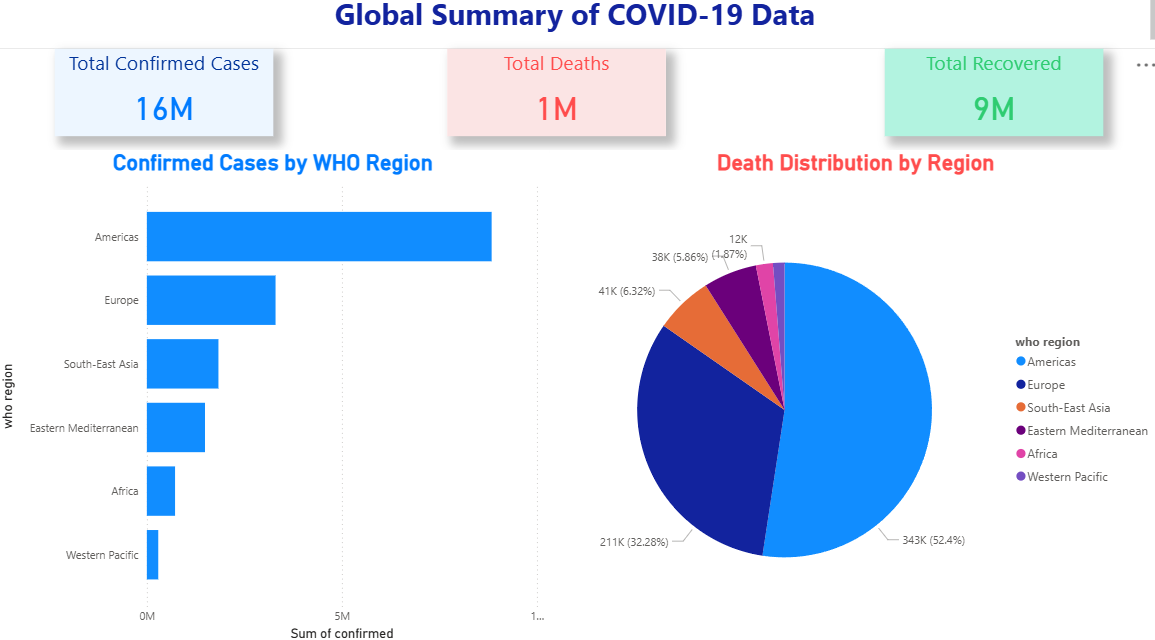

The dashboard page shown, as its layout file describes it:
{"tool":"powerbi","page":{"name":"Global Summary","canvas":[1280,720],"ordinal":2},"visuals":[{"type":"textbox","box":[0,0,1280,64],"z":0},{"type":"card","title":"Total Confirmed Cases","fields":{"Values":["Sum(country_cleaned.confirmed)"]},"box":[64,64,240,96],"z":1000},{"type":"card","title":"Total Deaths","fields":{"Values":["Sum(country_cleaned.deaths)"]},"box":[496,64,240,96],"z":2000},{"type":"card","title":"Total Recovered","fields":{"Values":["Sum(country_cleaned.recovered)"]},"box":[976,64,240,96],"z":3000},{"type":"clusteredBarChart","title":"Confirmed Cases by WHO Region","fields":{"Category":["country_cleaned.who region"],"Y":["Sum(country_cleaned.confirmed)"]},"box":[0,176,608,544],"z":4000},{"type":"pieChart","title":"Death Distribution by Region","fields":{"Category":["country_cleaned.who region"],"Y":["Sum(country_cleaned.deaths)"]},"box":[608,176,672,544],"z":5000}]}

Visuals, with their boxes in screenshot pixels (x1, y1, x2, y2), scaled from the page's 1280x720 canvas onto the 1155x640 screenshot:
textbox: region(0, 0, 1154, 57)
"Total Confirmed Cases" card: region(58, 57, 274, 142)
"Total Deaths" card: region(448, 57, 664, 142)
"Total Recovered" card: region(881, 57, 1097, 142)
"Confirmed Cases by WHO Region" clusteredBarChart: region(0, 156, 549, 639)
"Death Distribution by Region" pieChart: region(549, 156, 1154, 639)
